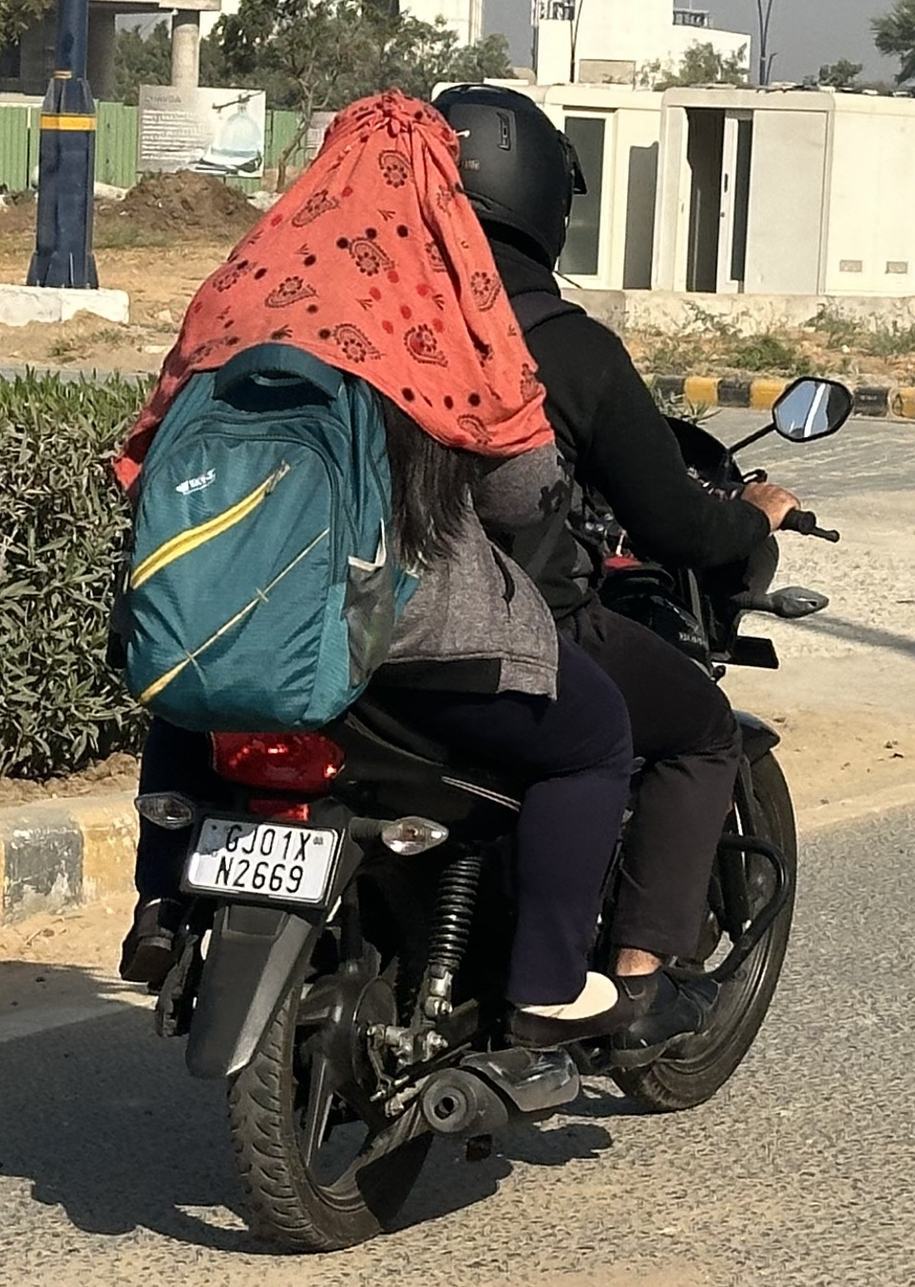BikeWithRider: (79, 63, 868, 1266)
Helmet: (401, 70, 598, 288)
NoHelmet: (302, 84, 462, 245)
